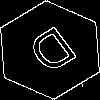D: (25, 25, 86, 83)
